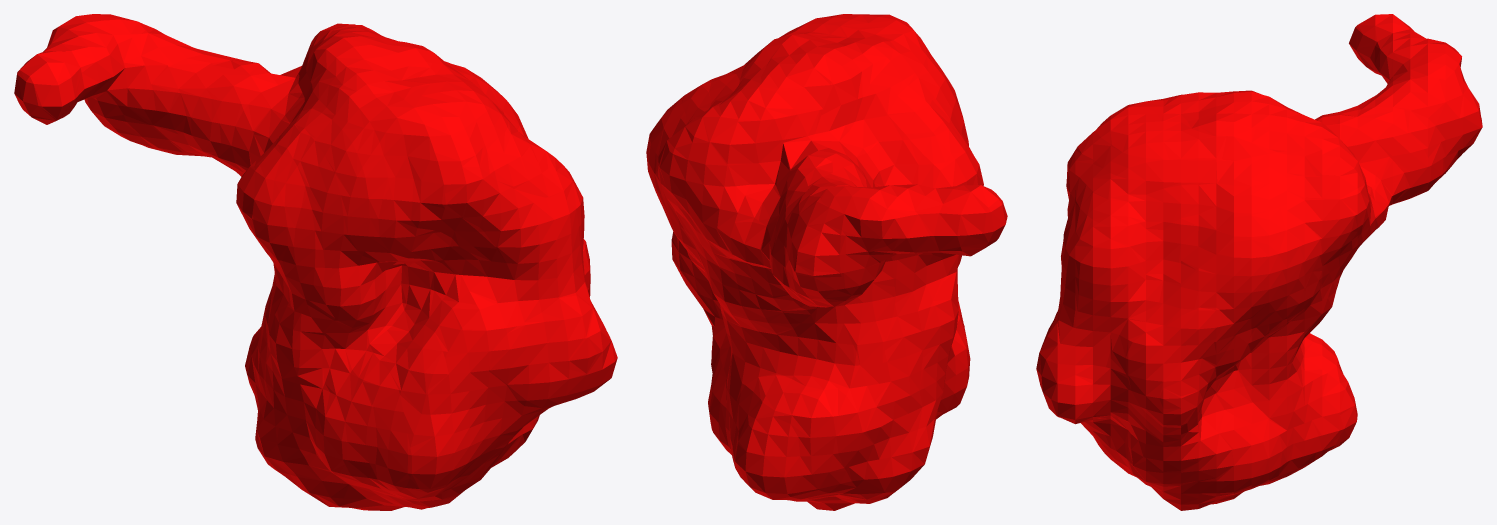
The model's file is betB_coarse.dae.
3 views of the same model, side by side, from view 1: azimuth 30°, elevation 25°; view 2: azimuth 150°, elevation 25°; view 3: azimuth 270°, elevation 25° (orthographic). The views are drawn at different scales.
Parts seen in each view (by area): view 1: betB; view 2: betB; view 3: betB.
Part boxes in pixels (x1,y1,x2,y2): betB: [14, 14, 617, 510]; betB: [646, 14, 1007, 510]; betB: [1036, 14, 1482, 510].
Size of the model in its own units: 72.46 by 72.11 by 72.75.
